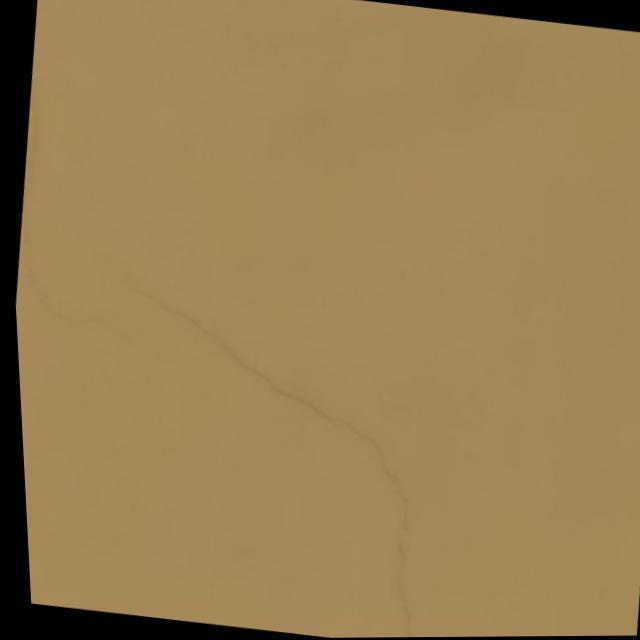Crack: (135, 284, 413, 601)
